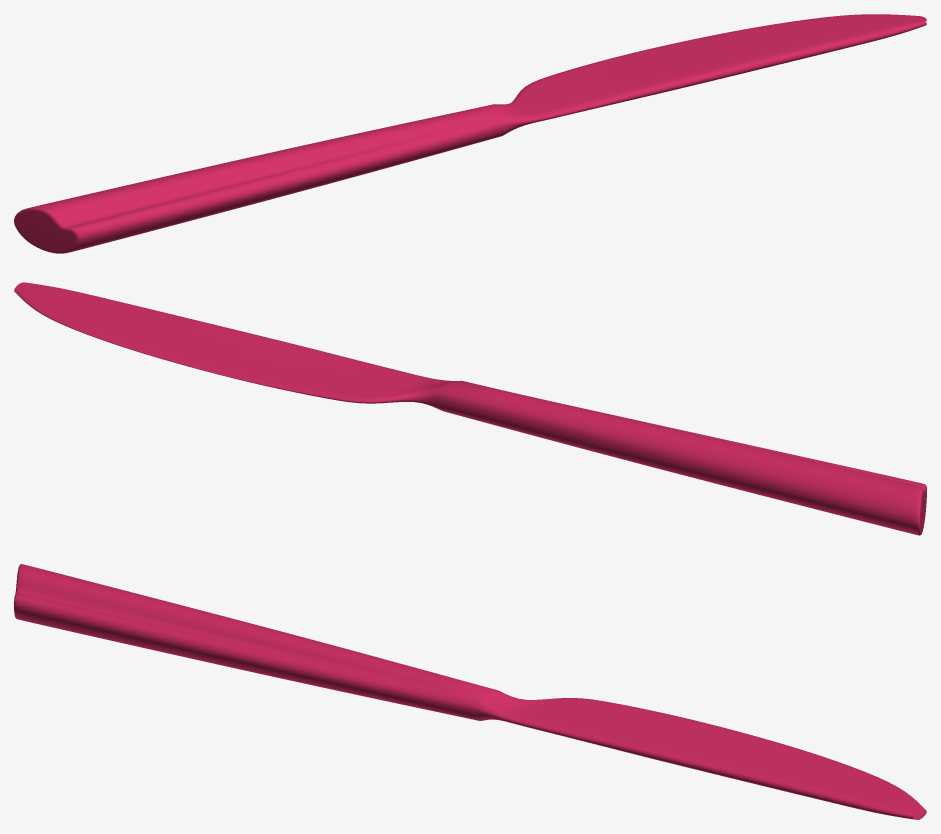
File: RedPlasticKnife.dae
The picture shows the model from 3 angles, top to bottom: view 1: azimuth 30°, elevation 25°; view 2: azimuth 150°, elevation 25°; view 3: azimuth 330°, elevation 25°; orthographic projection. The views are drawn at different scales.
Parts seen in each view (by area): view 1: group_0; view 2: group_0; view 3: group_0.
Boxes of the visible parts, x1,y1,x2,y2 form: group_0: (14, 14, 926, 253); group_0: (14, 282, 926, 535); group_0: (14, 564, 926, 819).
Size of the model in its own units: 0.1796 by 0.019 by 0.0079.
